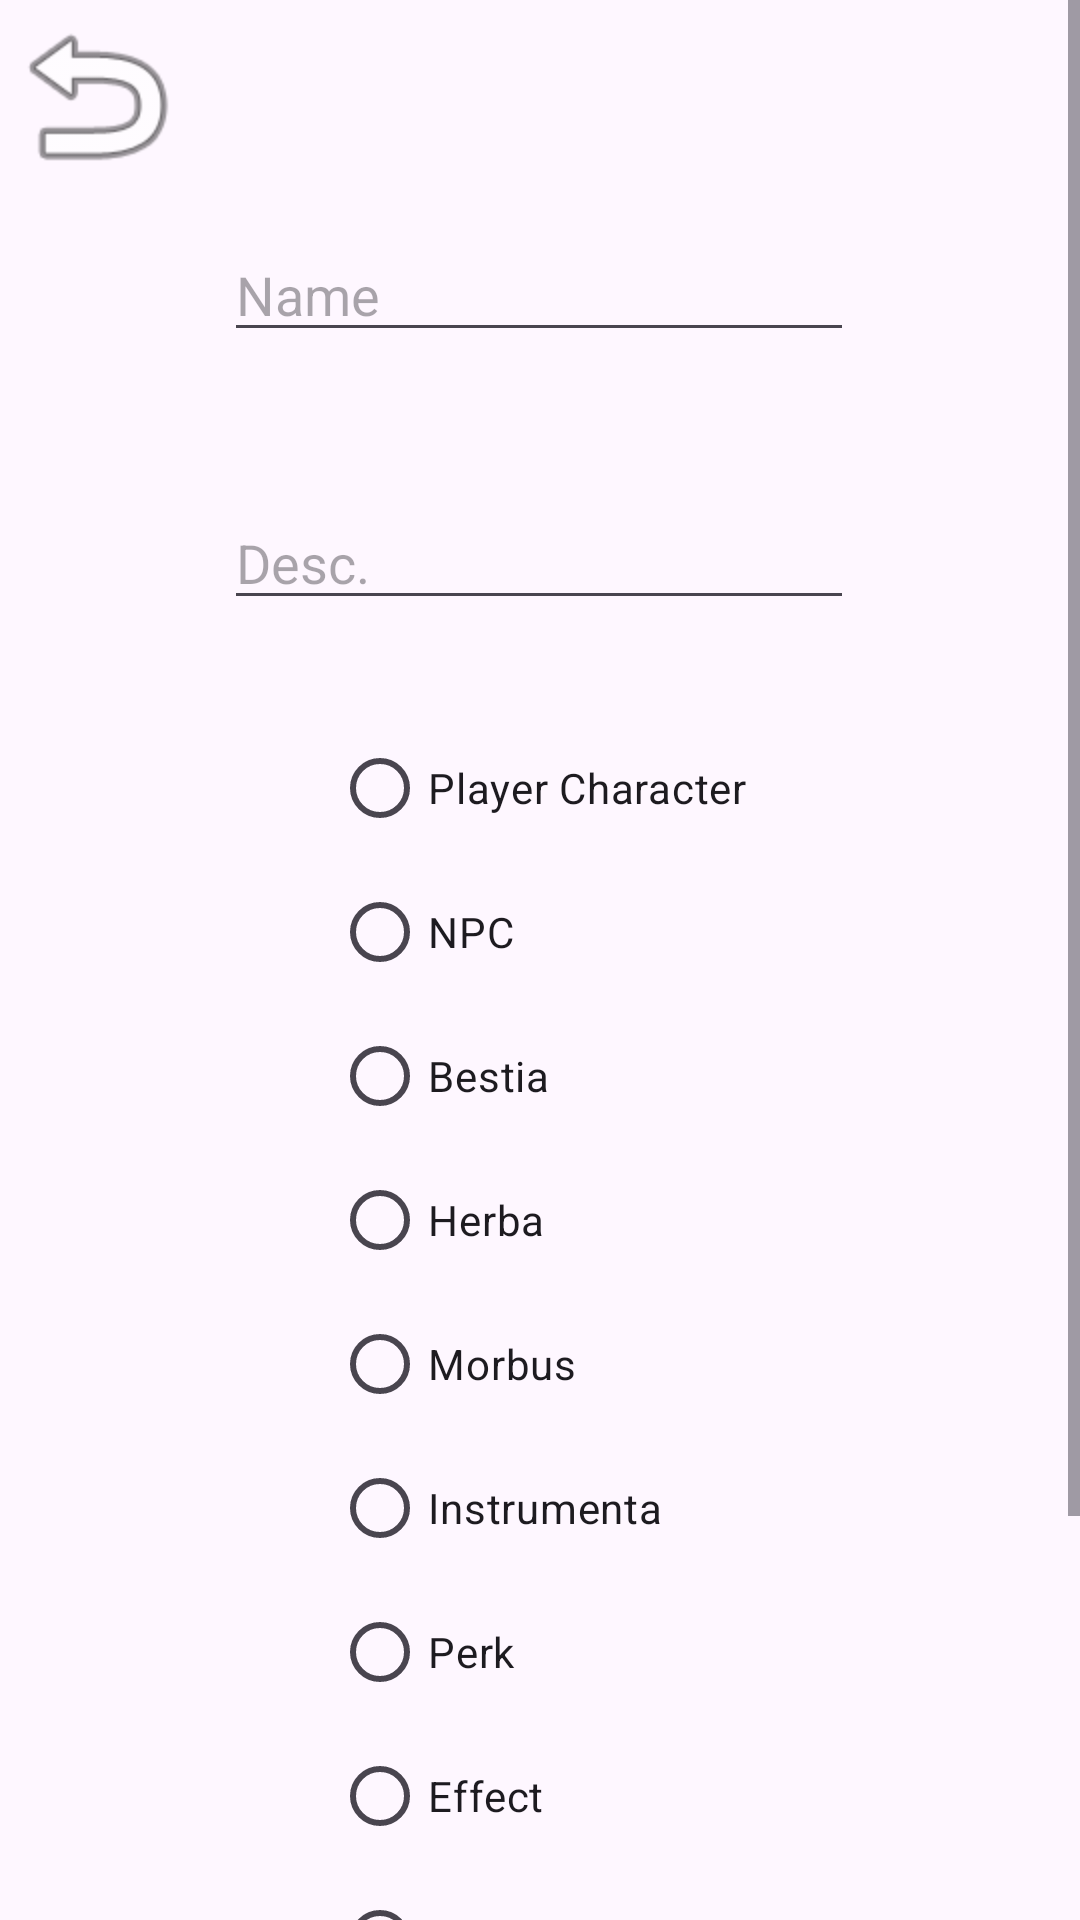

Where icons sit on this 1080×1920 app screen, as BBox(x1, y1, x2, y2):
revert: BBox(29, 35, 168, 160)
